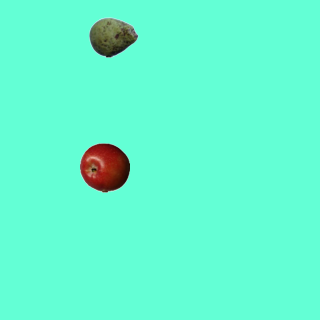Apple Braeburn: (79, 142, 129, 192)
Pear Stone: (88, 12, 138, 62)
